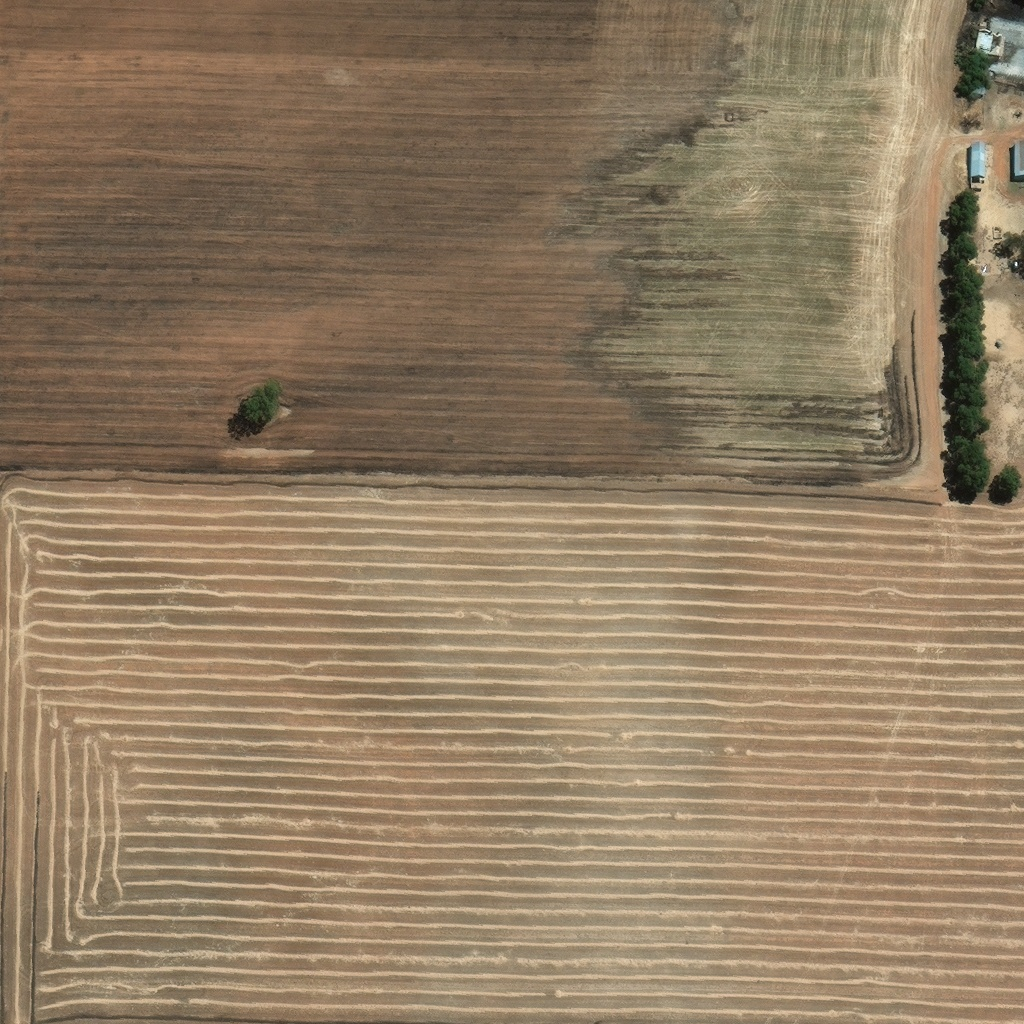0 no-damage: (972, 140, 987, 173), (978, 26, 995, 47), (972, 67, 987, 90), (1016, 138, 1023, 174), (985, 41, 1003, 53)
